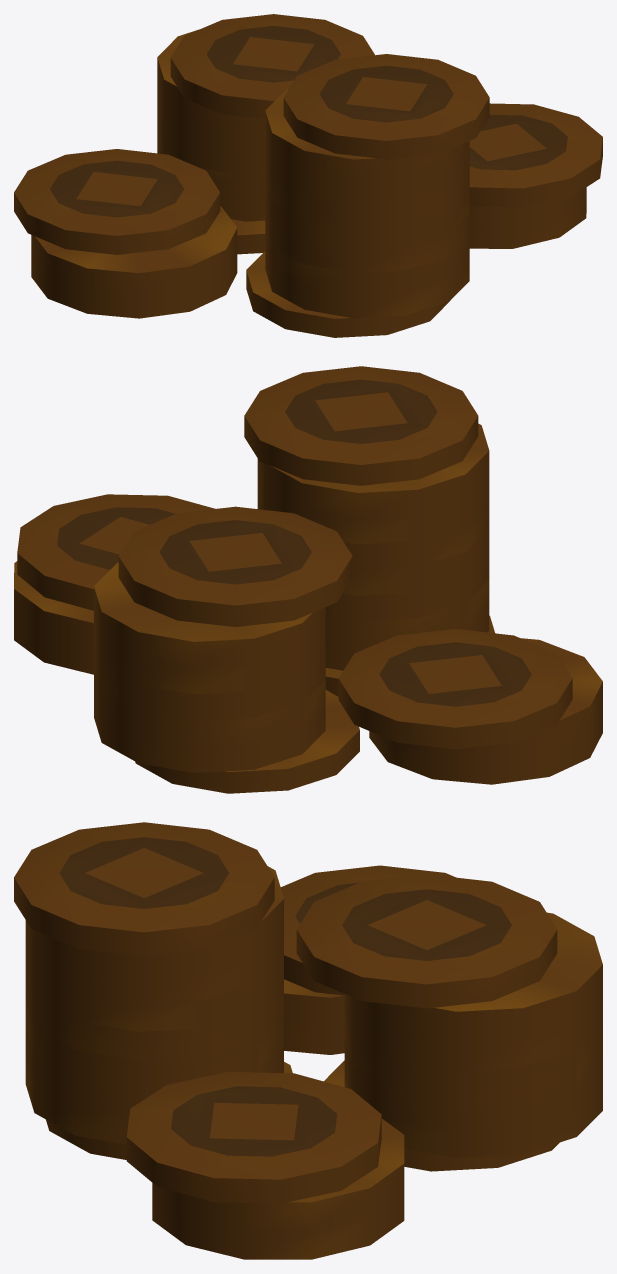
File: coins.glb
3 views of the same model, one above another, from view 1: azimuth 30°, elevation 25°; view 2: azimuth 150°, elevation 25°; view 3: azimuth 270°, elevation 25° (orthographic). The views are drawn at different scales.
Parts seen in each view (by area): view 1: coins; view 2: coins; view 3: coins.
Boxes of the visible parts, x1,y1,x2,y2 form: coins: (14, 14, 602, 337); coins: (14, 366, 602, 793); coins: (14, 822, 602, 1259).
Bounding box in the file's own units: 0.1975 × 0.0735 × 0.1542.
